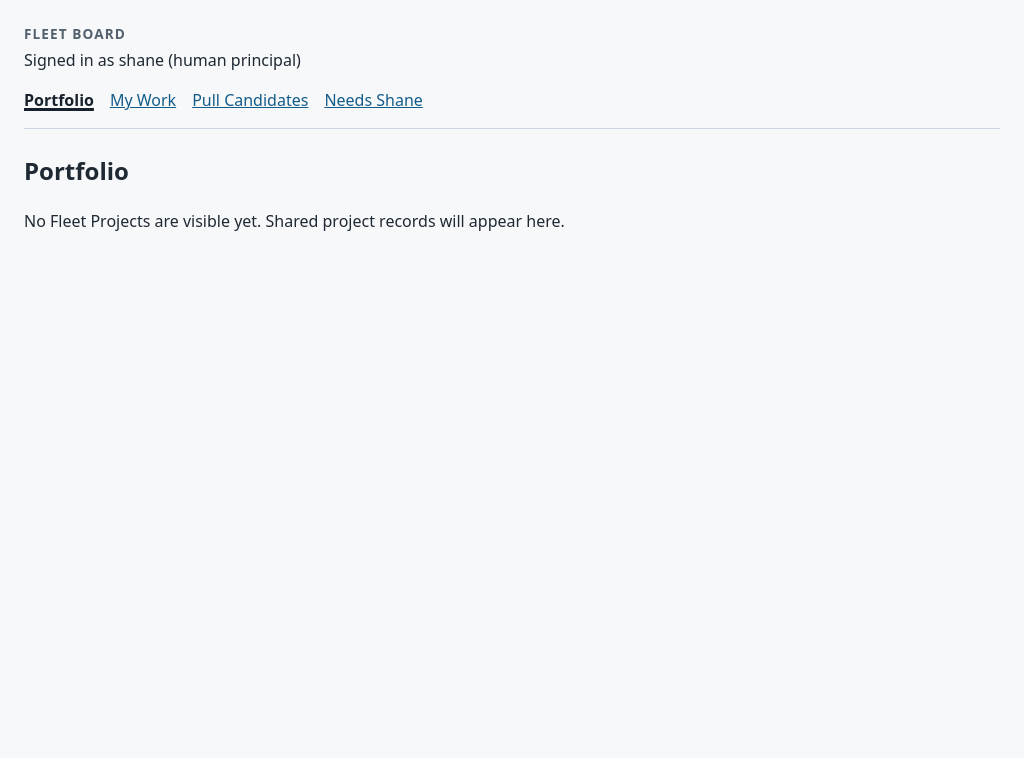
Test case: Needs Shane Board actions › retries an uncertain decision using its original payload, version and key and freezes edits
Expected: the text "Signed in as shane (human principal)" is shown, 24,49 -> 301,71
Click the link "Needs Shane": (374, 100) 324,88 -> 423,112
(page scrolled)
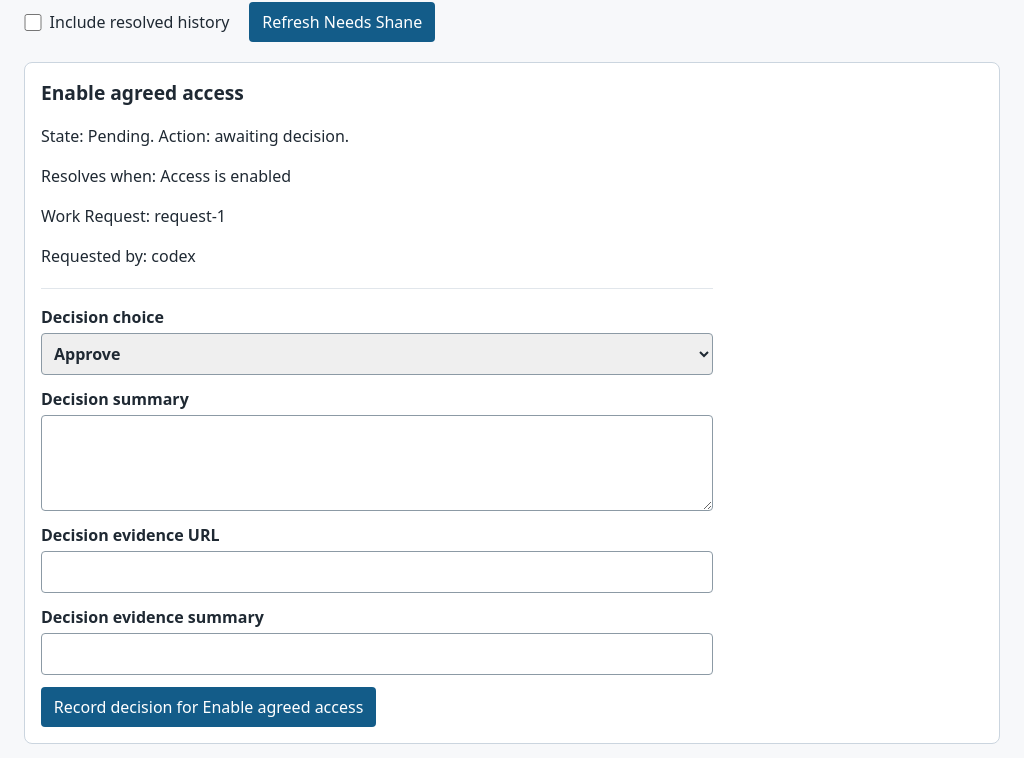
In the text box labelled "Decision summary": (377, 463) 41,415 -> 713,511, type "Approved exact scope"
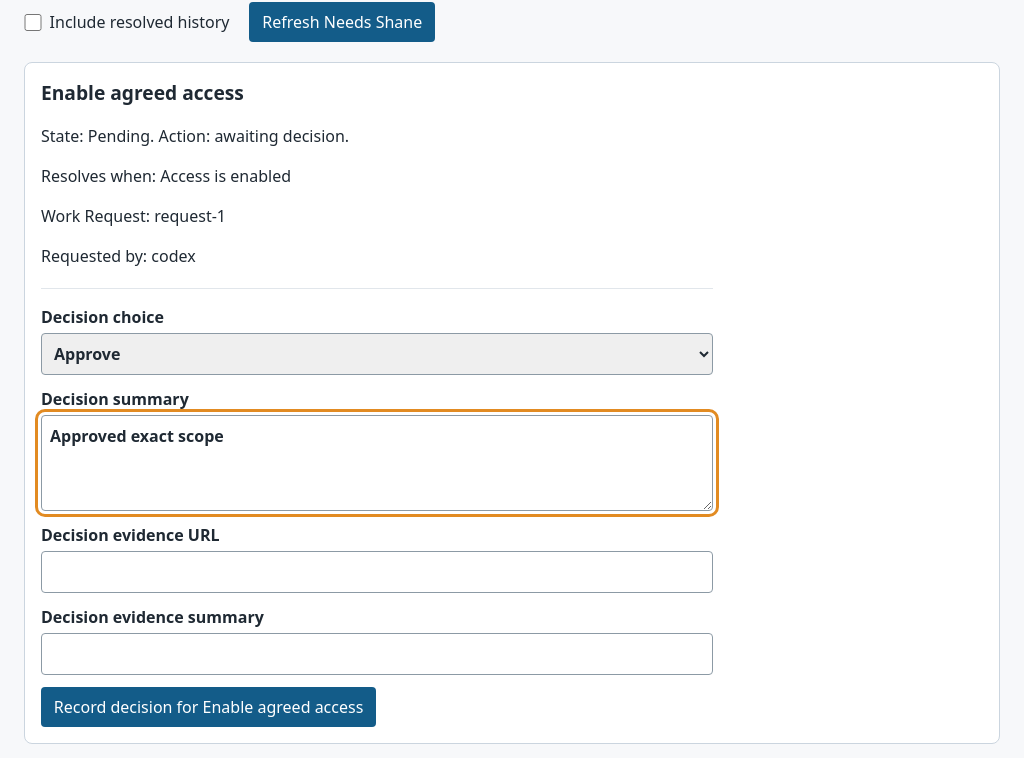
Click the button "Record decision for Enable agreed access": (209, 707) 41,687 -> 376,727
(page scrolled)
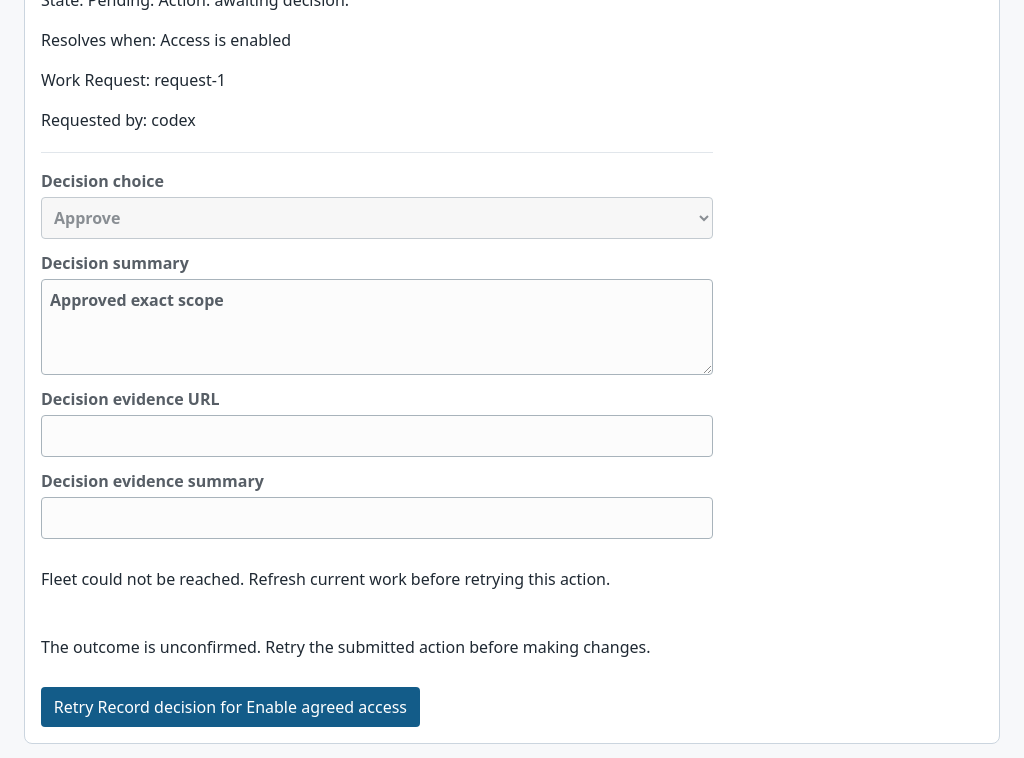
Result: the text box labelled "Decision summary" is disabled at 41,279 -> 713,375
Result: the dropdown labelled "Decision choice" is disabled at 41,197 -> 713,239
Click the button "Retry Record decision for Enable agreed access": (230, 707) 41,687 -> 420,727
(page scrolled)
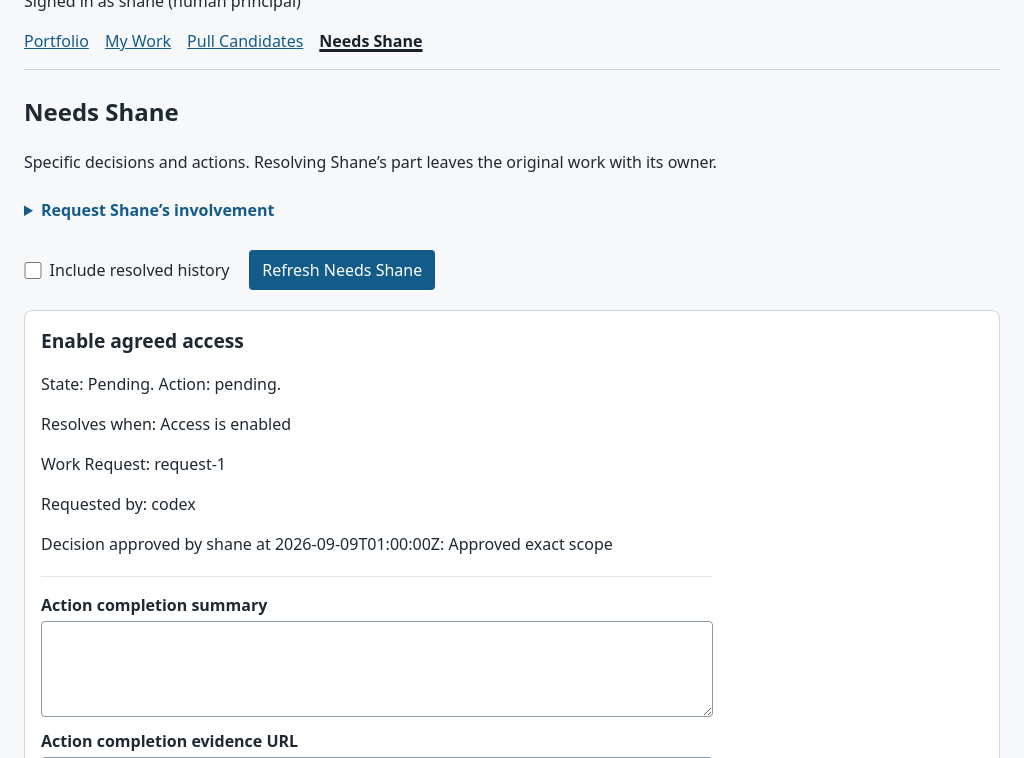
Result: the text "State: Pending. Action: pending." is shown at 41,373 -> 281,395
